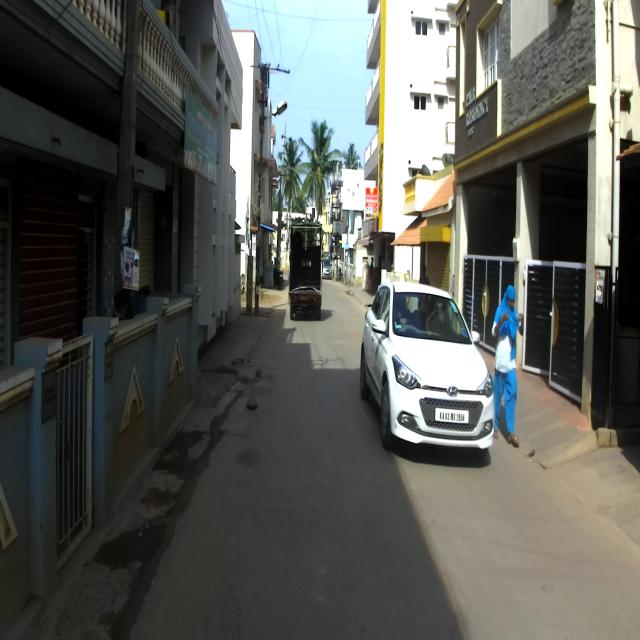car ahead at: (366, 277, 494, 457)
truck ahead at: (287, 218, 325, 323)
